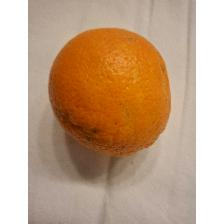Mandarine: (47, 24, 175, 158)
